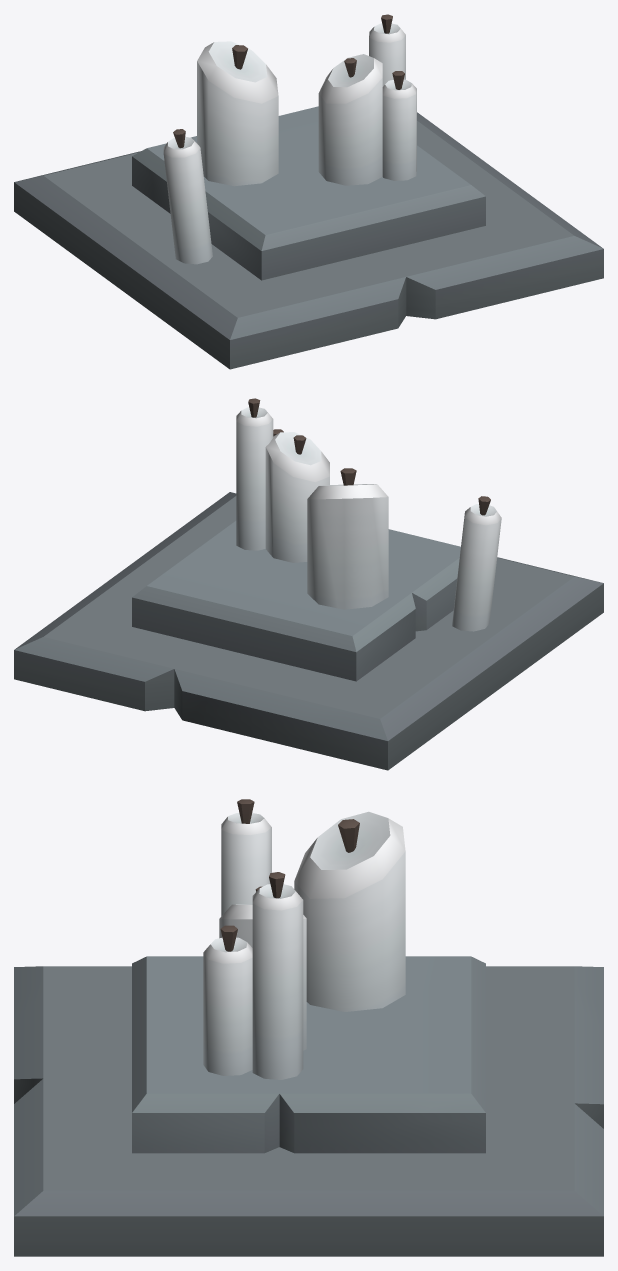
File: d_kaykit_plaque_bougies.glb
3 views of the same model, one above another, from view 1: azimuth 30°, elevation 25°; view 2: azimuth 150°, elevation 25°; view 3: azimuth 270°, elevation 25° (orthographic). The views are drawn at different scales.
Parts seen in each view (by area): view 1: d_kaykit_plaque_bougies; view 2: d_kaykit_plaque_bougies; view 3: d_kaykit_plaque_bougies.
Boxes of the visible parts, x1,y1,x2,y2 form: d_kaykit_plaque_bougies: [14, 14, 603, 369]; d_kaykit_plaque_bougies: [14, 398, 603, 770]; d_kaykit_plaque_bougies: [14, 799, 603, 1256].
Size of the model in its own units: 2 by 1.13 by 2.
Materials: 1 (1 with a texture image).
